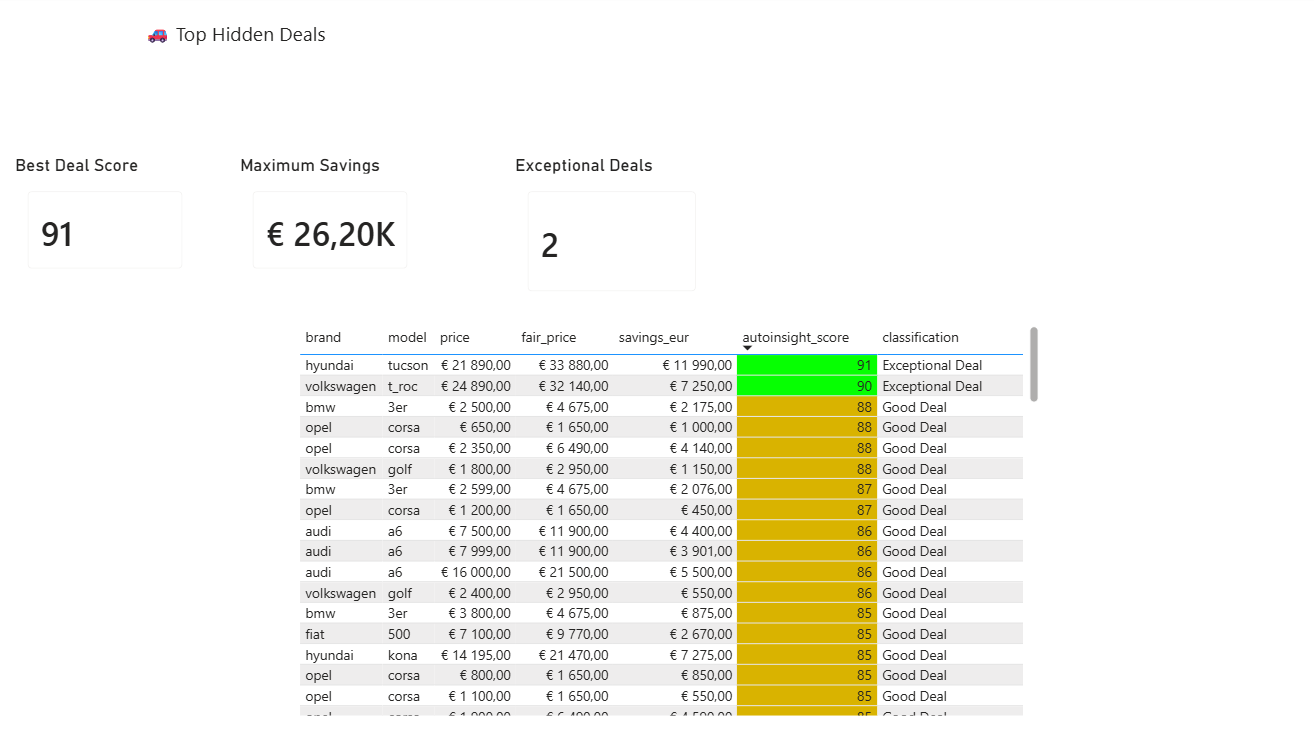

This screenshot's page, from the dashboard's own definition file:
{"tool":"powerbi","page":{"name":"Top Hidden Deals","canvas":[1280,720],"ordinal":1},"visuals":[{"type":"tableEx","fields":{"Values":["car_deals.brand","car_deals.model","car_deals.price","car_deals.fair_price","car_deals.savings_eur","car_deals.autoinsight_score","car_deals.classification"]},"box":[285.6,314.7,726.2,387.3],"z":0},{"type":"cardVisual","title":"Best Deal Score","fields":{"Data":["Max(car_deals.autoinsight_score)"]},"box":[10.7,153,184.9,128.8],"z":1},{"type":"cardVisual","title":"Maximum Savings","fields":{"Data":["Max(car_deals.savings_eur)"]},"box":[228.5,153,184.9,128.8],"z":2},{"type":"cardVisual","title":"Exceptional Deals","fields":{"Data":["car_deals.Exceptional Deals"]},"box":[494.8,153,197.5,150.1],"z":3},{"type":"textbox","box":[135.6,18.4,242.1,51.3],"z":4}]}

Visuals, with their boxes in screenshot pixels (x1, y1, x2, y2), scaled from the page's 1280x720 canvas onto the 1314x733 screenshot:
tableEx - car_deals.brand x car_deals.model: 293:320:1039:715
"Best Deal Score" cardVisual: 11:156:201:287
"Maximum Savings" cardVisual: 235:156:424:287
"Exceptional Deals" cardVisual: 508:156:711:309
textbox: 139:19:388:71
